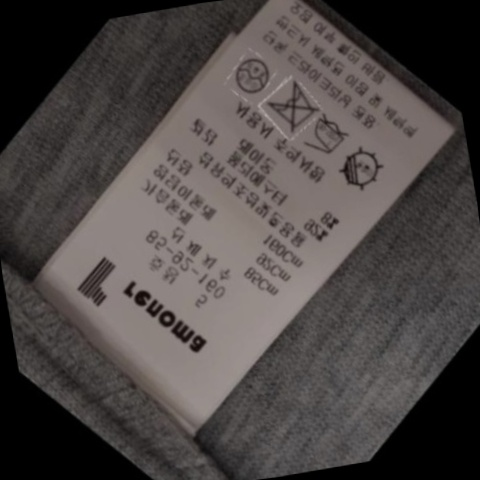DN_wash: (260, 81, 320, 134)
dry_clean_petrol_only: (227, 51, 274, 97)
iron_low: (301, 113, 354, 160)
line_dry_in_shade: (330, 146, 386, 194)
